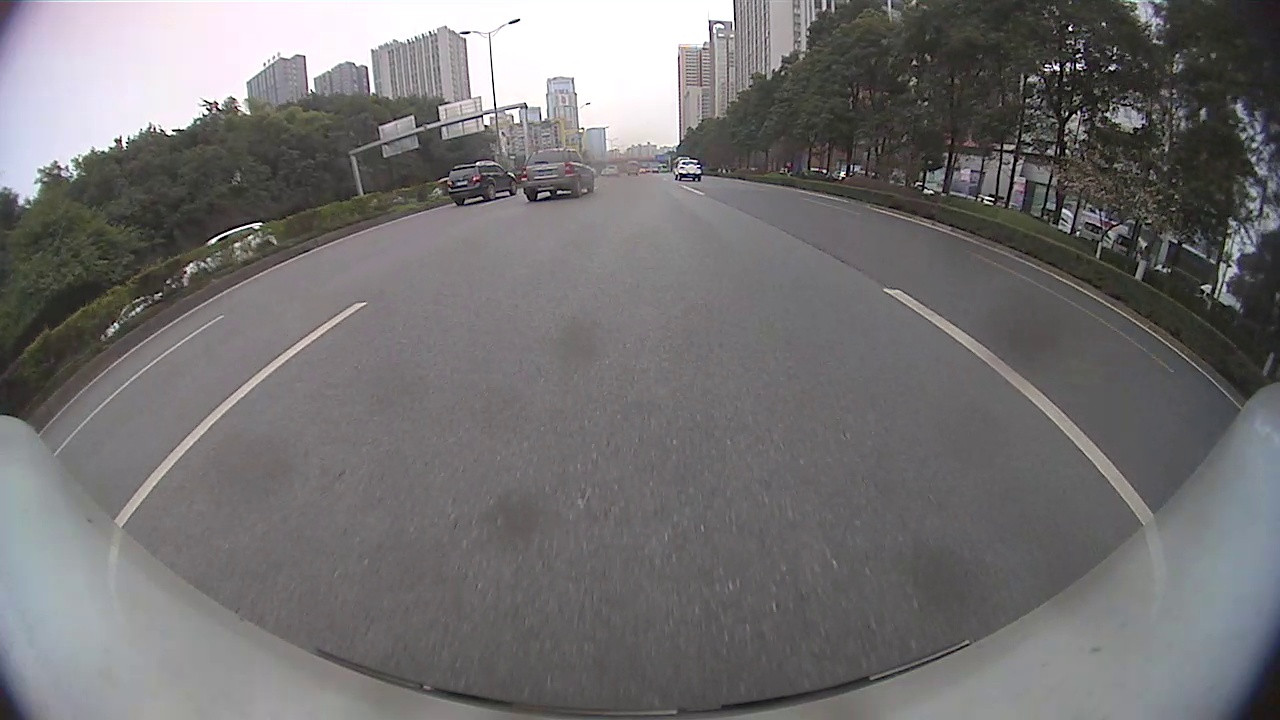car: (167, 221, 276, 291), (518, 147, 597, 201), (447, 160, 518, 206), (674, 158, 704, 181)
front: (509, 178, 520, 196)
rear: (486, 180, 498, 202)
